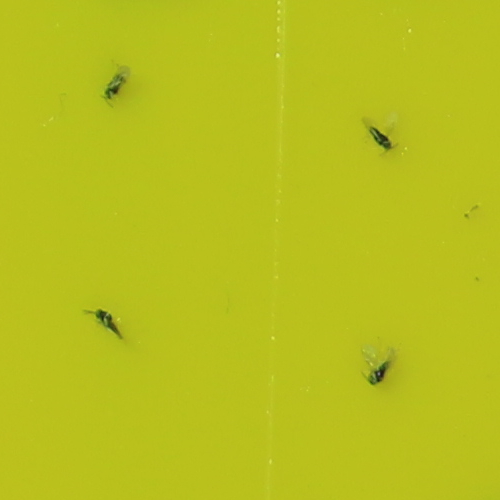Psyllaephagus: (95, 307, 122, 338), (368, 361, 391, 385), (369, 126, 391, 150), (104, 74, 124, 98)
